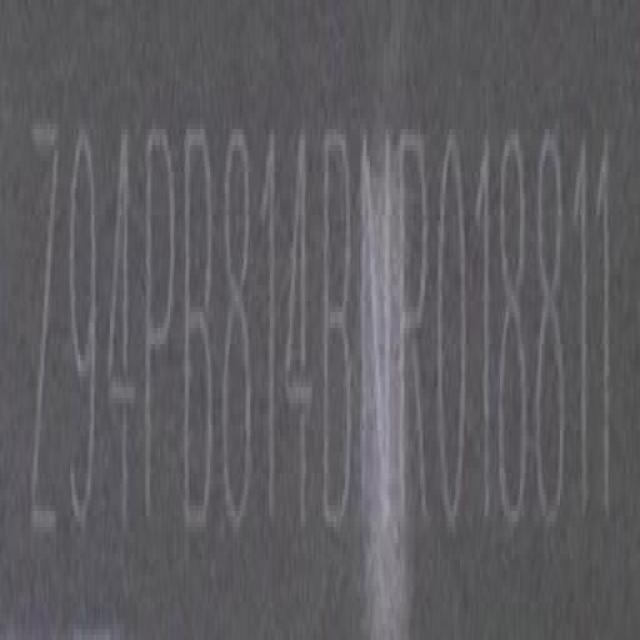0: (432, 131, 470, 539)
1: (594, 132, 624, 522), (573, 134, 598, 528), (258, 129, 281, 540), (474, 131, 493, 522)
4: (106, 124, 141, 543), (286, 122, 318, 538)
8: (492, 131, 530, 534), (219, 123, 255, 541), (533, 130, 570, 532)
9: (64, 125, 100, 545)
B: (180, 119, 219, 542), (319, 120, 356, 536)
N: (359, 127, 394, 545)
P: (139, 120, 178, 544)
R: (395, 126, 433, 536)
Z: (27, 108, 59, 546)
